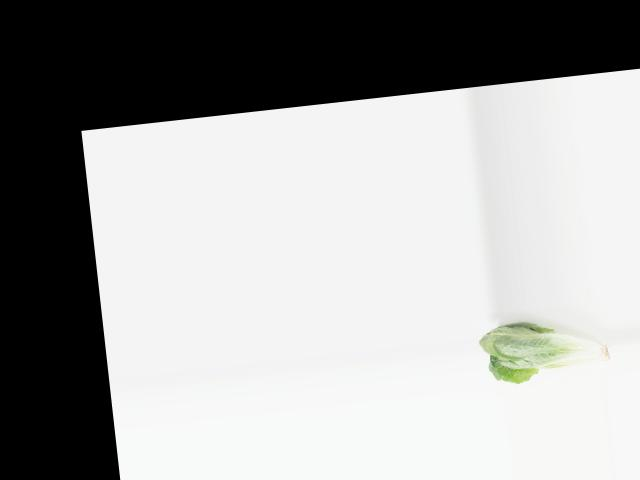lettuce: (476, 308, 617, 389)
